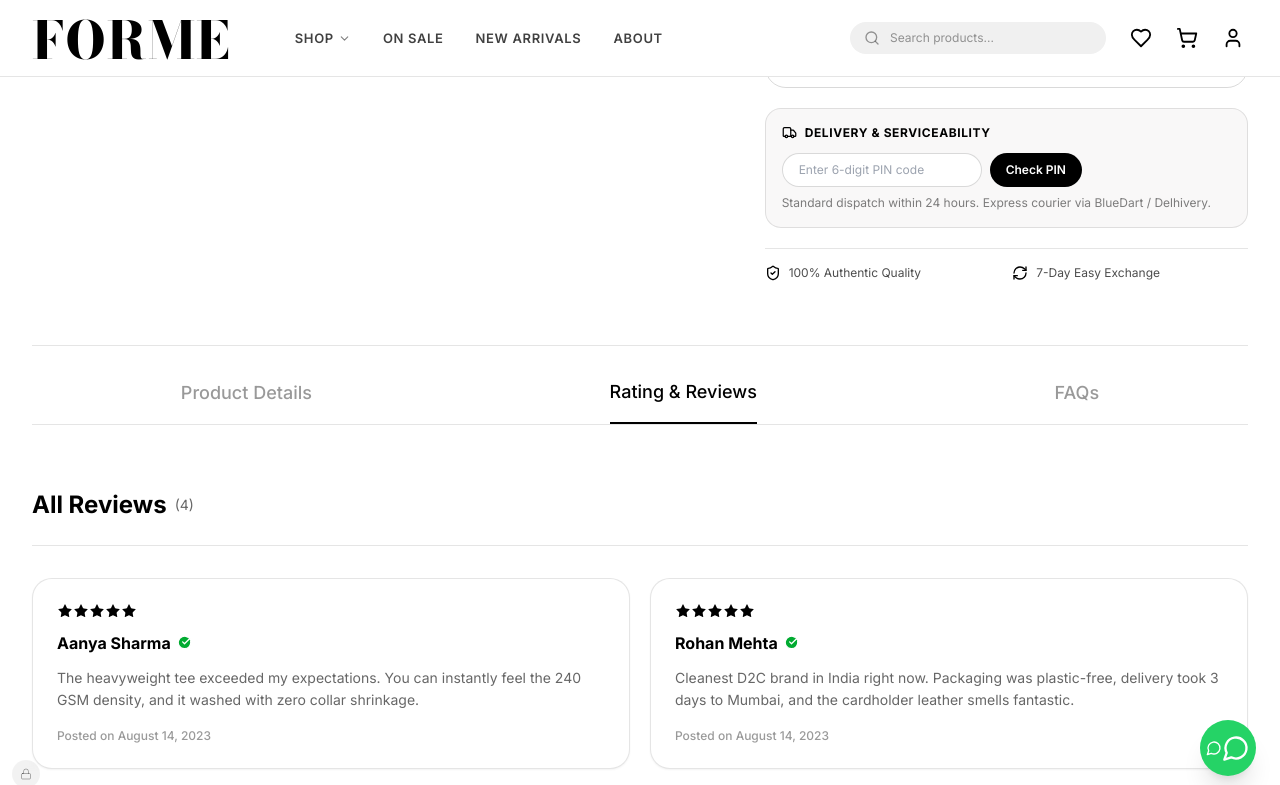
Test case: Deep Demo Audit: Navigation, Browsing, User Flows & Admin Controls › 3. Product Page: image switcher, size guide, delivery pin check & tabs
The width and height of the screenshot is (1280, 785).
Later steps or results of the test are not shown.
(page scrolled)
# Tab switching: Details
Click the button "Product Details". click: {"x": 246, "y": 400}
box: [181,378,312,422]
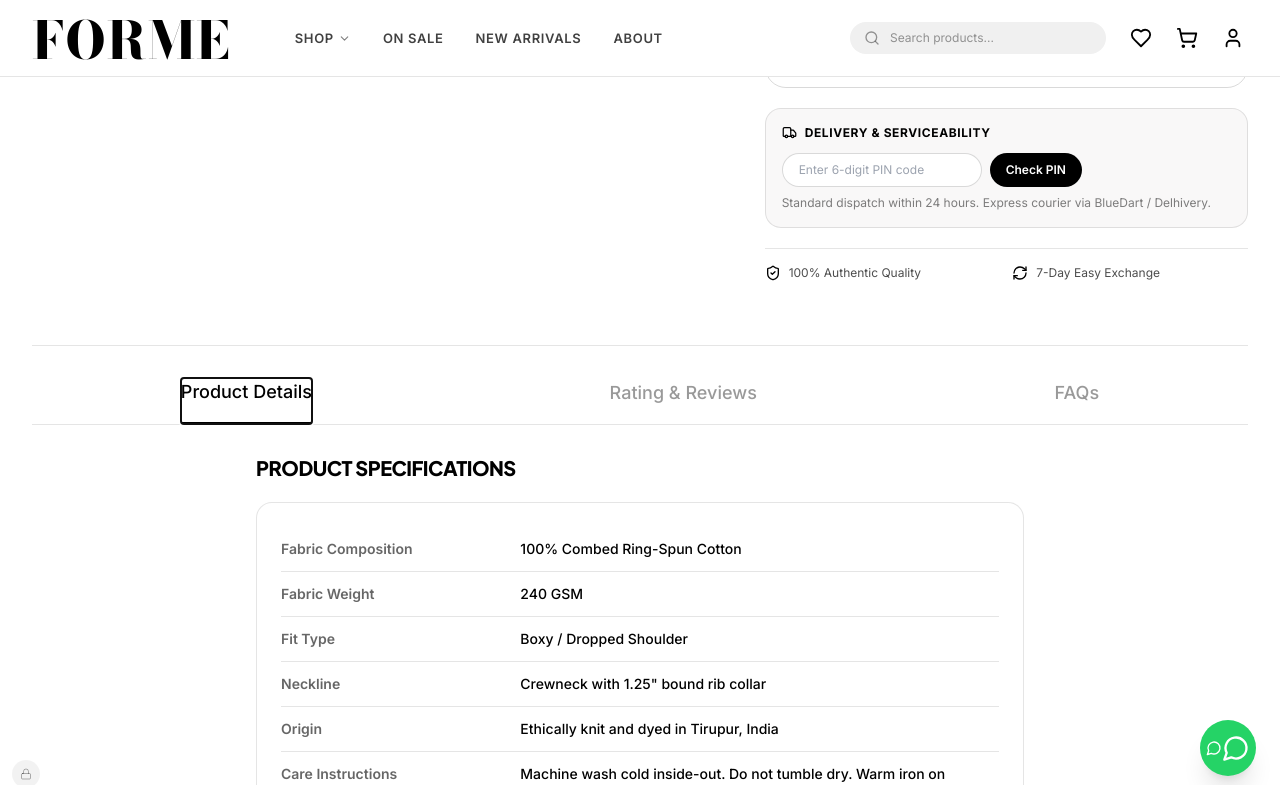
Expected: the heading "Product Specifications" is shown, [256,454,516,480]
Click the button "FAQs". click: {"x": 1077, "y": 400}
box: [1054,378,1099,422]
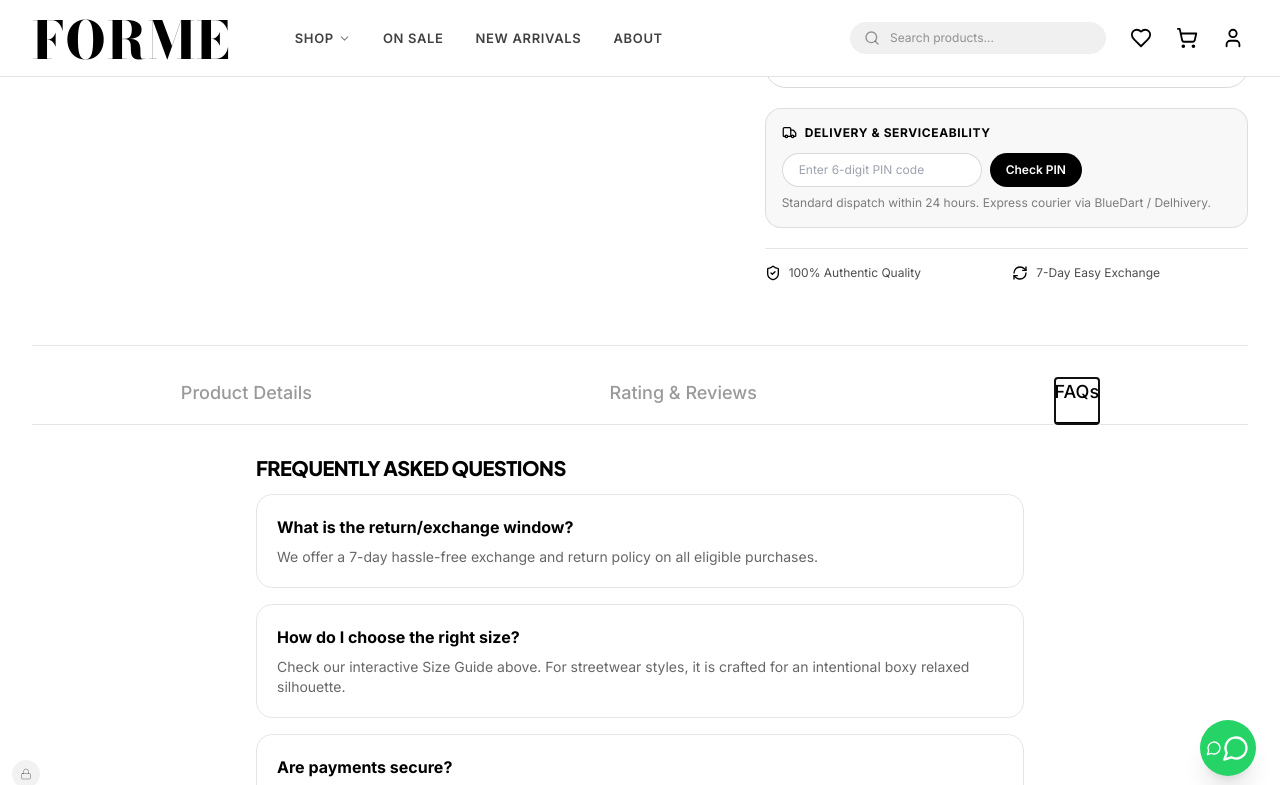
Expected: the heading "Frequently Asked Questions" is shown, [256,454,566,480]
